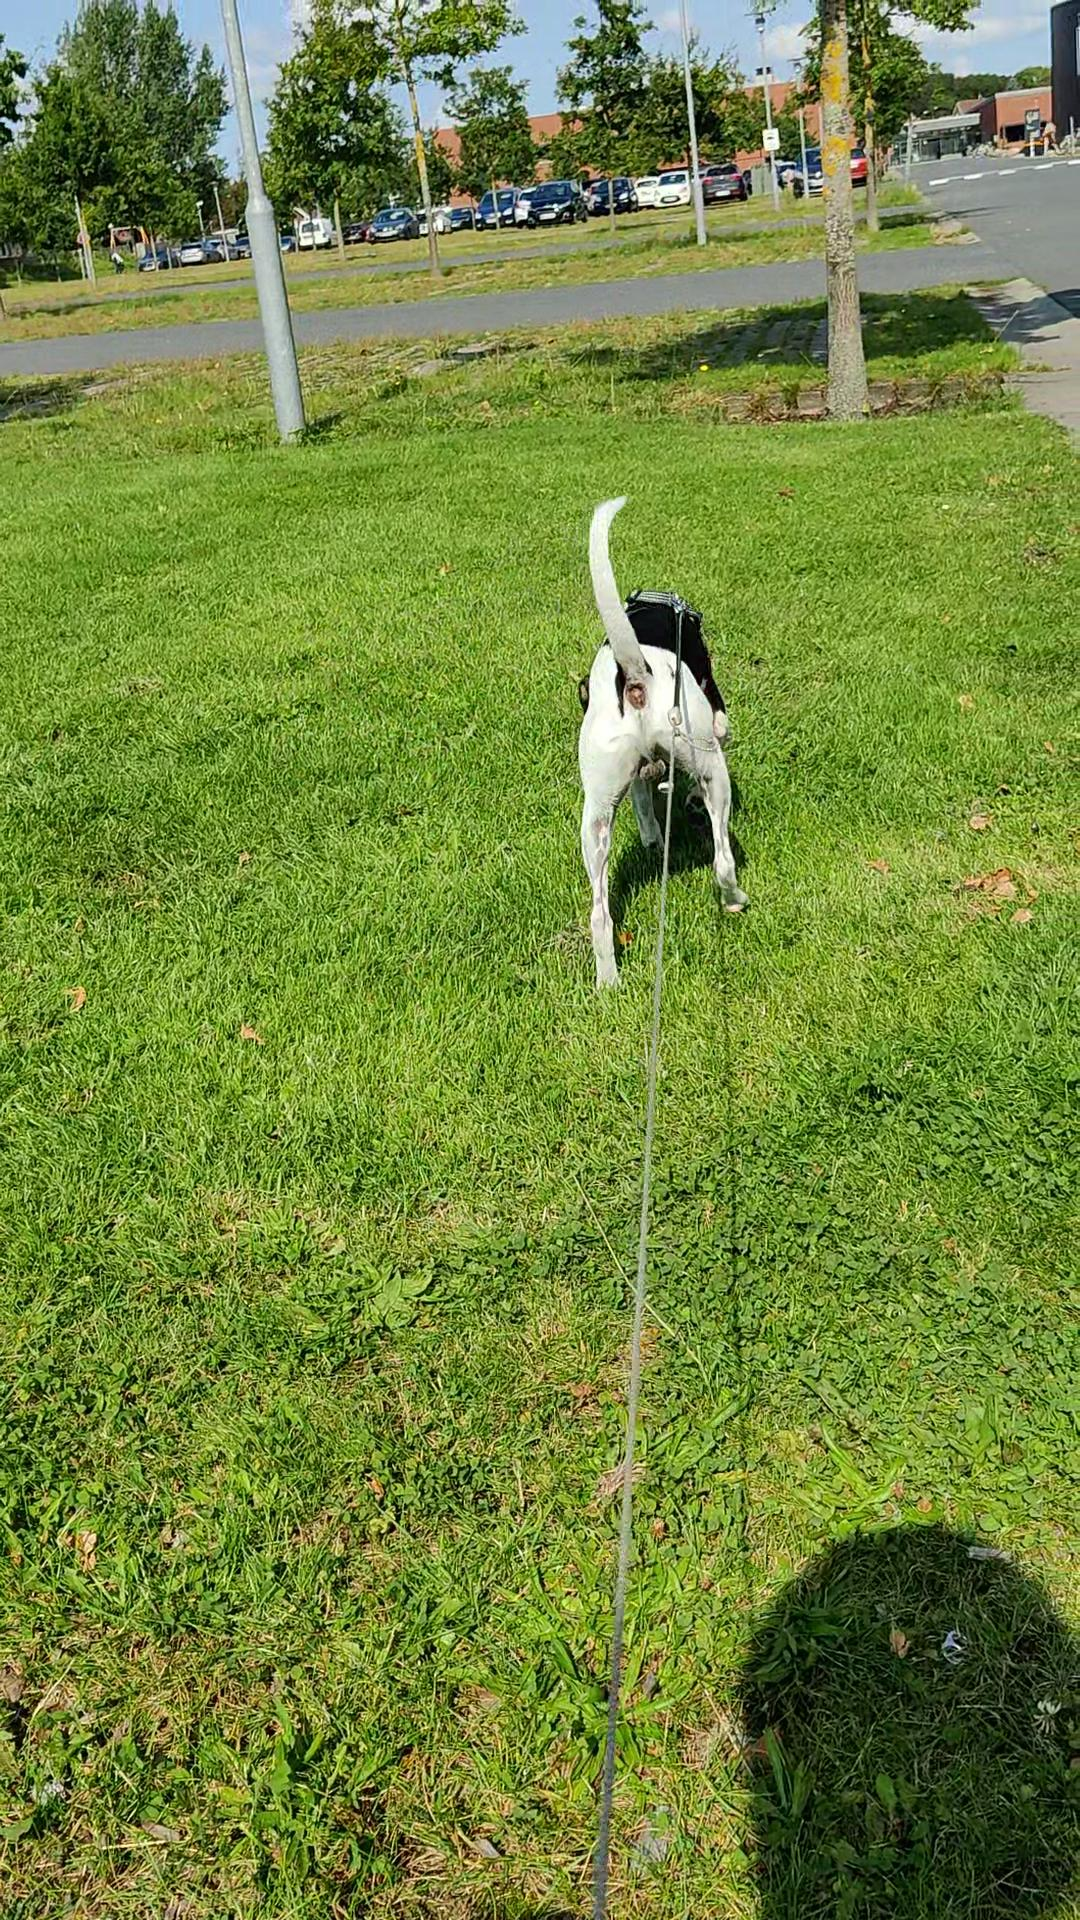Dog: (527, 483, 785, 1019)
